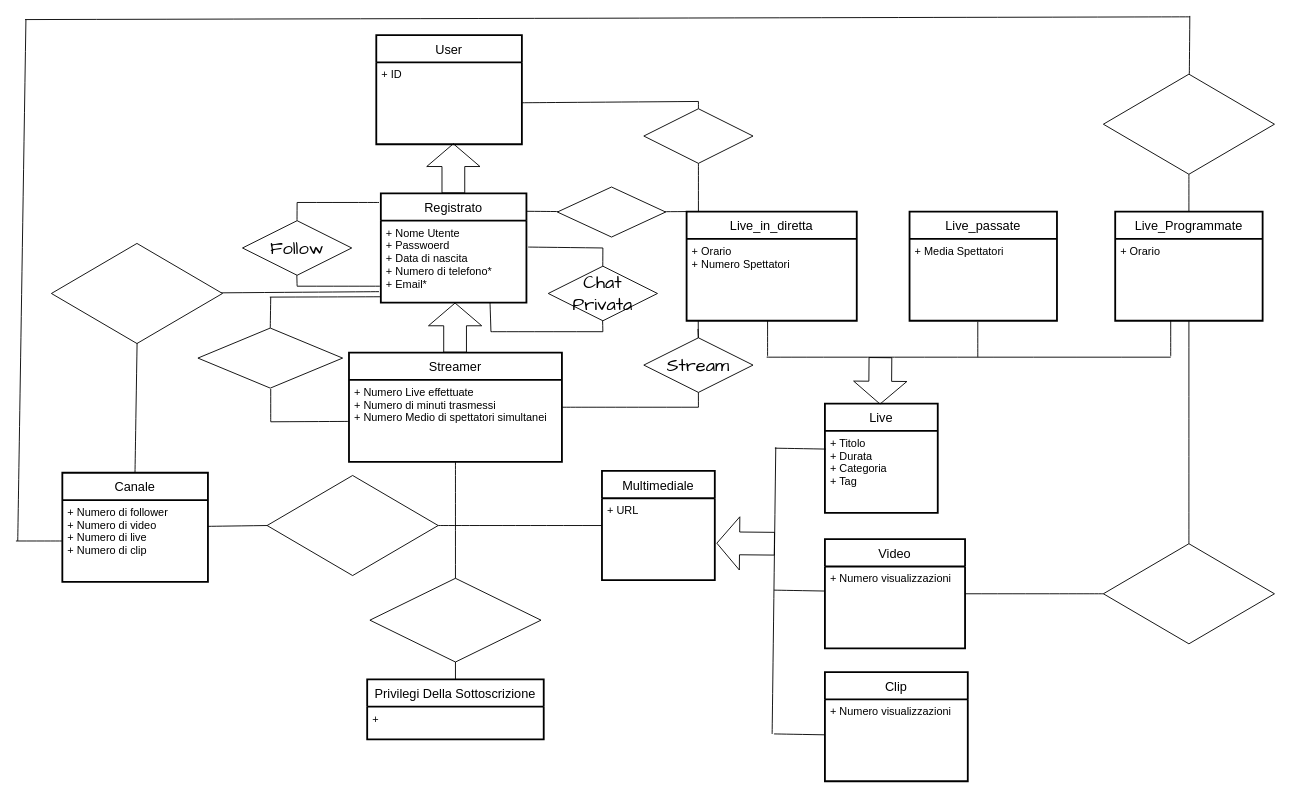
Image size: 1290x798. Some labels were removed from this diagram. Each missing label, with the centre of its shape:
"Calendario" belongs at (1188,123).
"Chat Live" belongs at (611,211).
"Contenuti" belongs at (352,525).
"Fonte Video" belongs at (1188,593).
"Info" belongs at (136,293).
"Stremer-Privilegi" belongs at (455,619).
"Subscription" belongs at (270,357).
"Viewer" belongs at (698,135).
